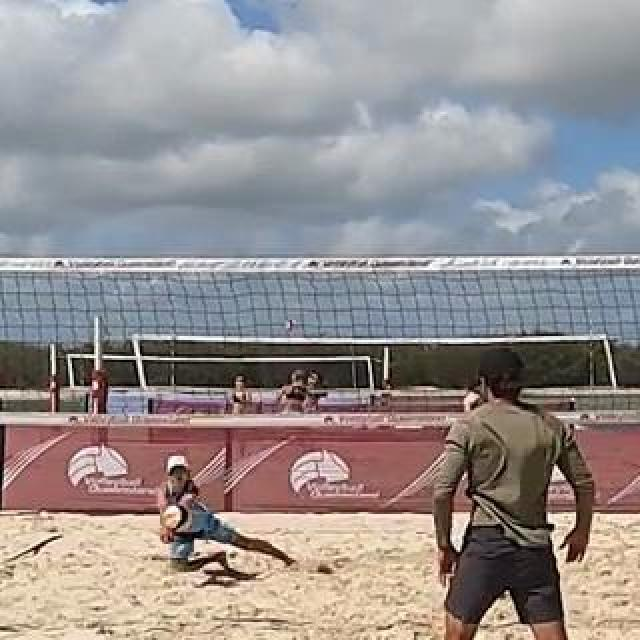volleyball: (162, 504, 190, 532)
